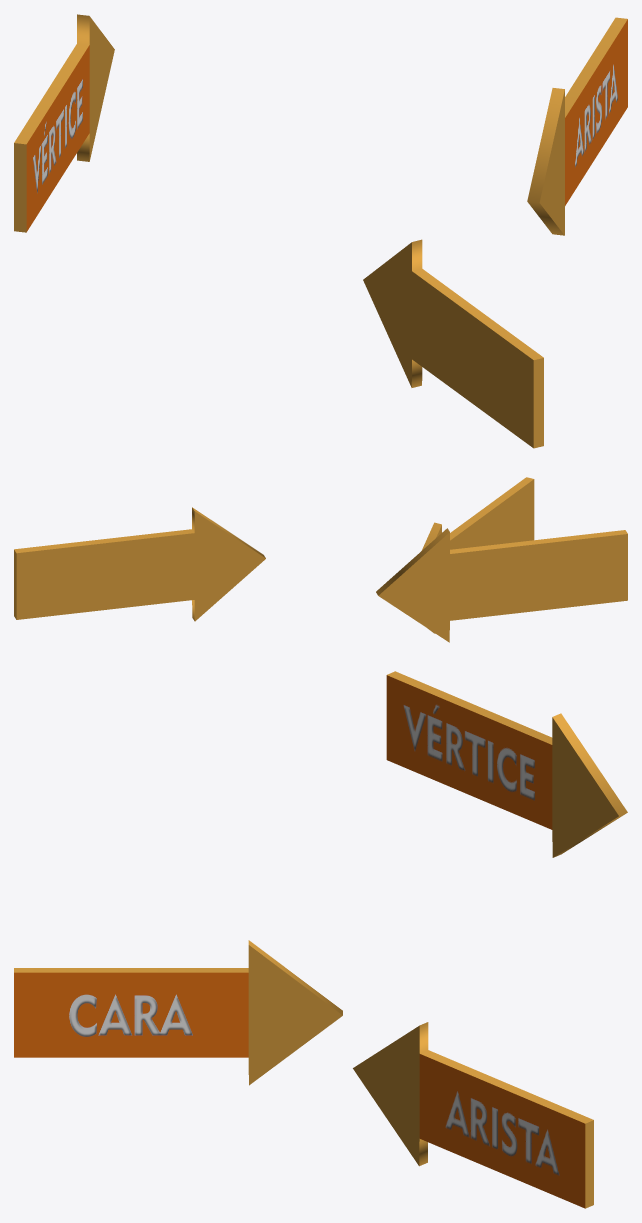
Rendered from CUBO2.fbx.
3 renders of one model, top to bottom at view 1: azimuth 30°, elevation 25°; view 2: azimuth 150°, elevation 25°; view 3: azimuth 270°, elevation 25°, orthographic. The views are drawn at different scales.
Parts seen in each view (by area): view 1: polySurface64; view 2: polySurface64; view 3: polySurface64.
Part boxes in pixels (x1=…): polySurface64: x1=14, y1=14, x2=627, y2=448; polySurface64: x1=14, y1=477, x2=627, y2=642; polySurface64: x1=14, y1=671, x2=627, y2=1208.
Bounding box in the file's own units: 16.86 × 13.06 × 6.72.
